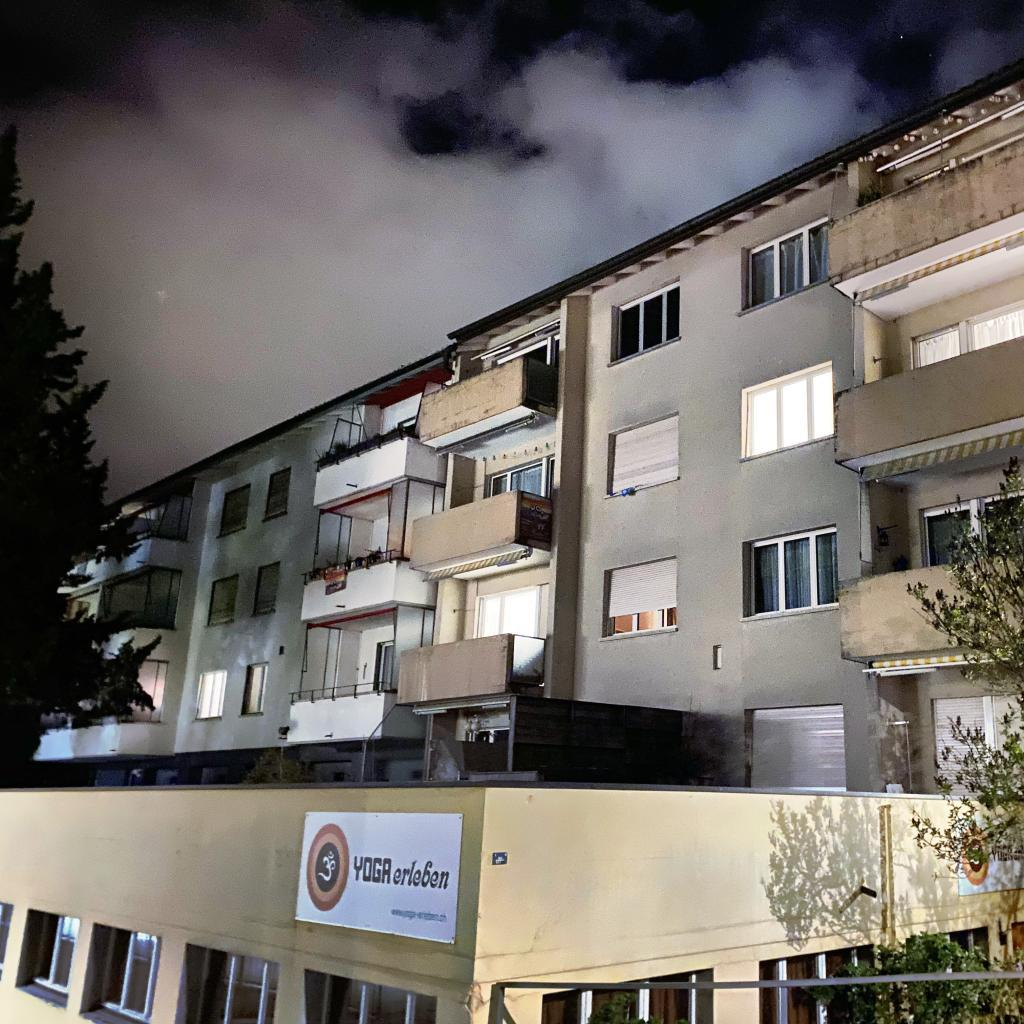balcony-fence: (315, 426, 419, 474), (300, 547, 411, 587), (288, 680, 397, 708)
facade: (0, 53, 1024, 1024)
vegetation: (0, 122, 164, 782), (905, 453, 1024, 884), (799, 930, 1024, 1024), (241, 747, 319, 784), (585, 990, 666, 1024)
window: (760, 946, 877, 1024), (934, 695, 1024, 794), (750, 526, 839, 616), (748, 364, 834, 457), (542, 973, 697, 1024), (751, 705, 846, 788), (923, 489, 1024, 567), (748, 215, 828, 309), (916, 302, 1024, 367), (195, 949, 279, 1024), (99, 929, 160, 1024), (320, 974, 437, 1023), (611, 413, 678, 495), (607, 558, 677, 636), (98, 568, 181, 632), (617, 280, 680, 360), (109, 493, 192, 549), (33, 913, 80, 995), (118, 659, 168, 723), (480, 588, 538, 637), (491, 460, 543, 496), (219, 483, 251, 538), (251, 560, 281, 617), (207, 573, 239, 626), (264, 466, 292, 522), (197, 671, 227, 718), (497, 338, 548, 365), (245, 664, 268, 714), (378, 642, 395, 690), (945, 930, 975, 952), (472, 728, 509, 743)
